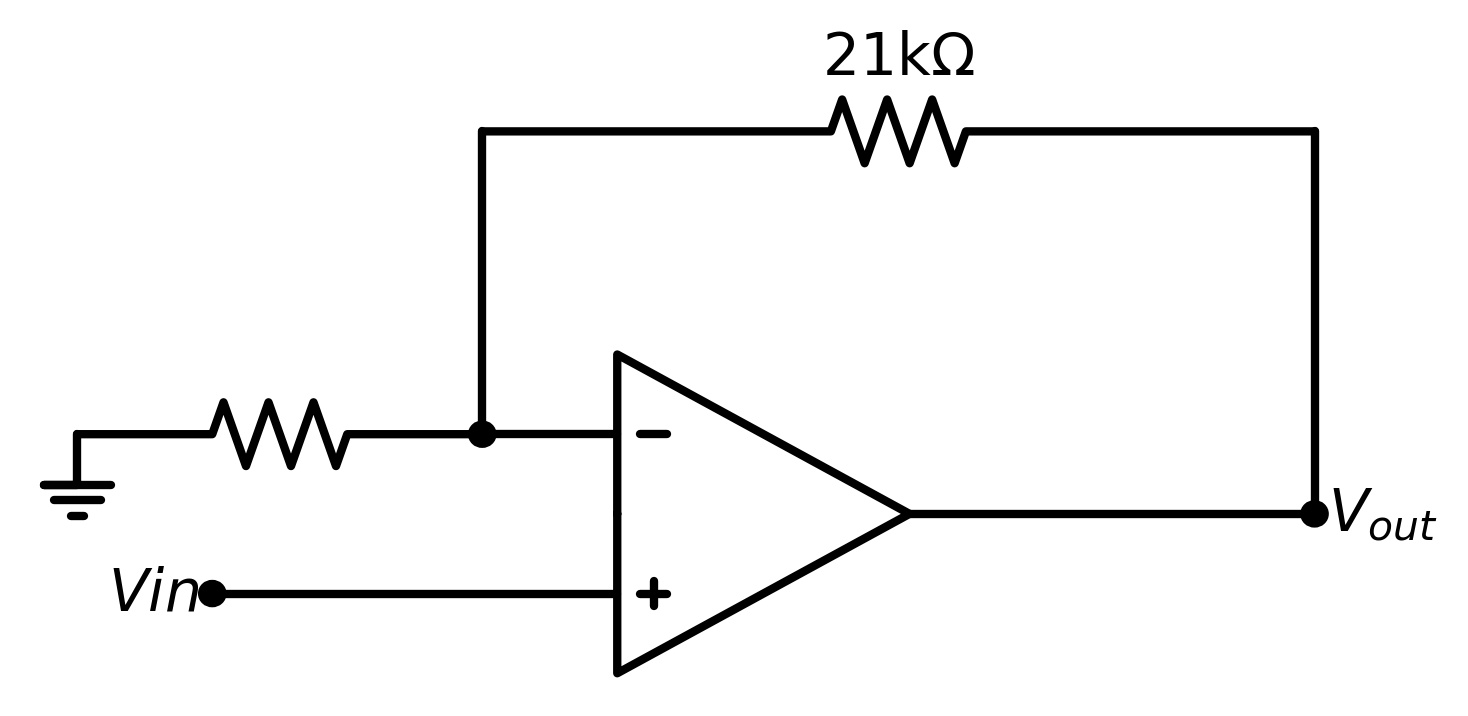ground: (31, 460, 122, 531)
opamp: (572, 333, 939, 685)
resistor: (807, 77, 982, 183), (196, 375, 362, 479)
